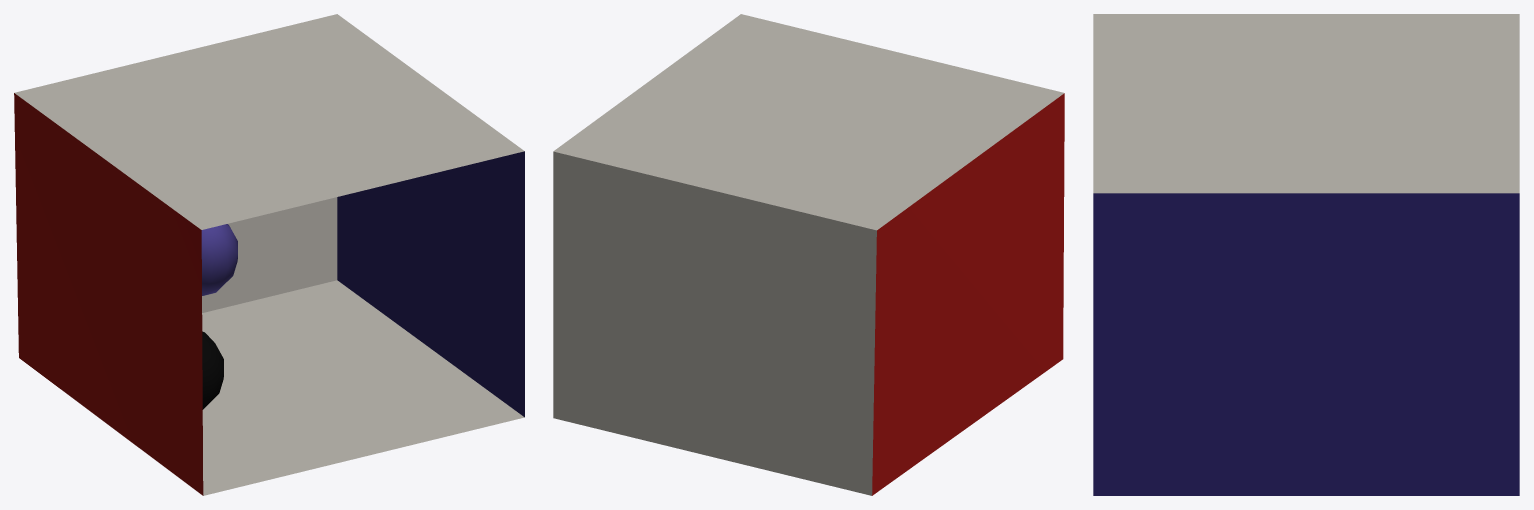
The model's file is CornellBox-Sphere-70.obj.
The picture shows the model from 3 angles, left to right: view 1: azimuth 30°, elevation 25°; view 2: azimuth 150°, elevation 25°; view 3: azimuth 270°, elevation 25°; orthographic projection. The views are drawn at different scales.
Parts seen in each view (by area): view 1: ceiling, leftWall, floor, rightWall, backWall, leftSphere, rightSphere; view 2: backWall, ceiling, leftWall; view 3: rightWall, ceiling.
Boxes of the visible parts, x1,y1,x2,y2 form: ceiling: (14,14,524,229); leftWall: (14,93,203,495); floor: (202,280,524,495); rightWall: (337,151,524,417); backWall: (202,197,337,312); leftSphere: (201,224,237,295); rightSphere: (202,331,223,409); backWall: (553,151,876,495); ceiling: (553,14,1064,230); leftWall: (872,93,1064,495); rightWall: (1093,193,1519,495); ceiling: (1093,14,1519,193).
Size of the model in its own units: 2.02 by 1.59 by 2.03.
